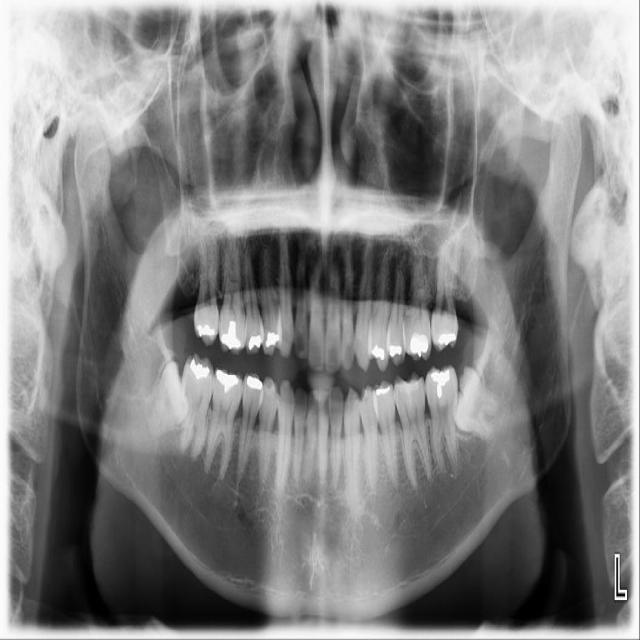Caries: (293, 330, 304, 356)
Filling: (429, 368, 452, 399), (215, 367, 241, 394), (219, 321, 243, 350), (187, 358, 213, 381), (409, 333, 428, 358), (244, 374, 264, 393), (369, 344, 387, 363), (437, 331, 457, 348), (264, 331, 280, 350), (246, 334, 263, 351), (195, 324, 215, 338), (375, 384, 391, 401), (388, 345, 404, 359)
impacted tooth: (136, 360, 190, 441), (455, 368, 508, 440)
